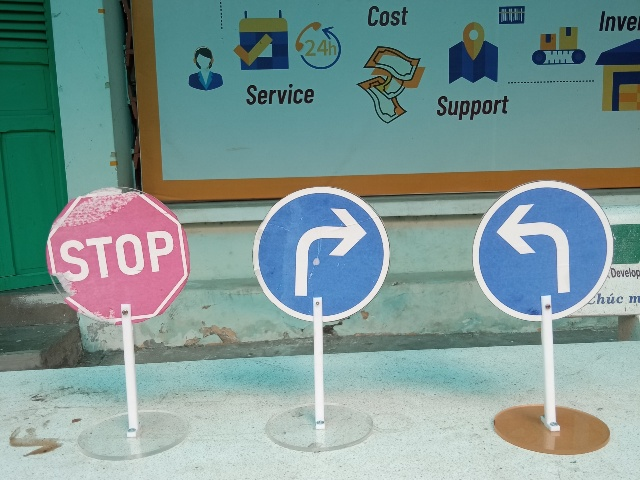Left_Sign: (471, 179, 613, 322)
Right_Sign: (251, 185, 390, 322)
Stop_Sign: (46, 187, 190, 324)
